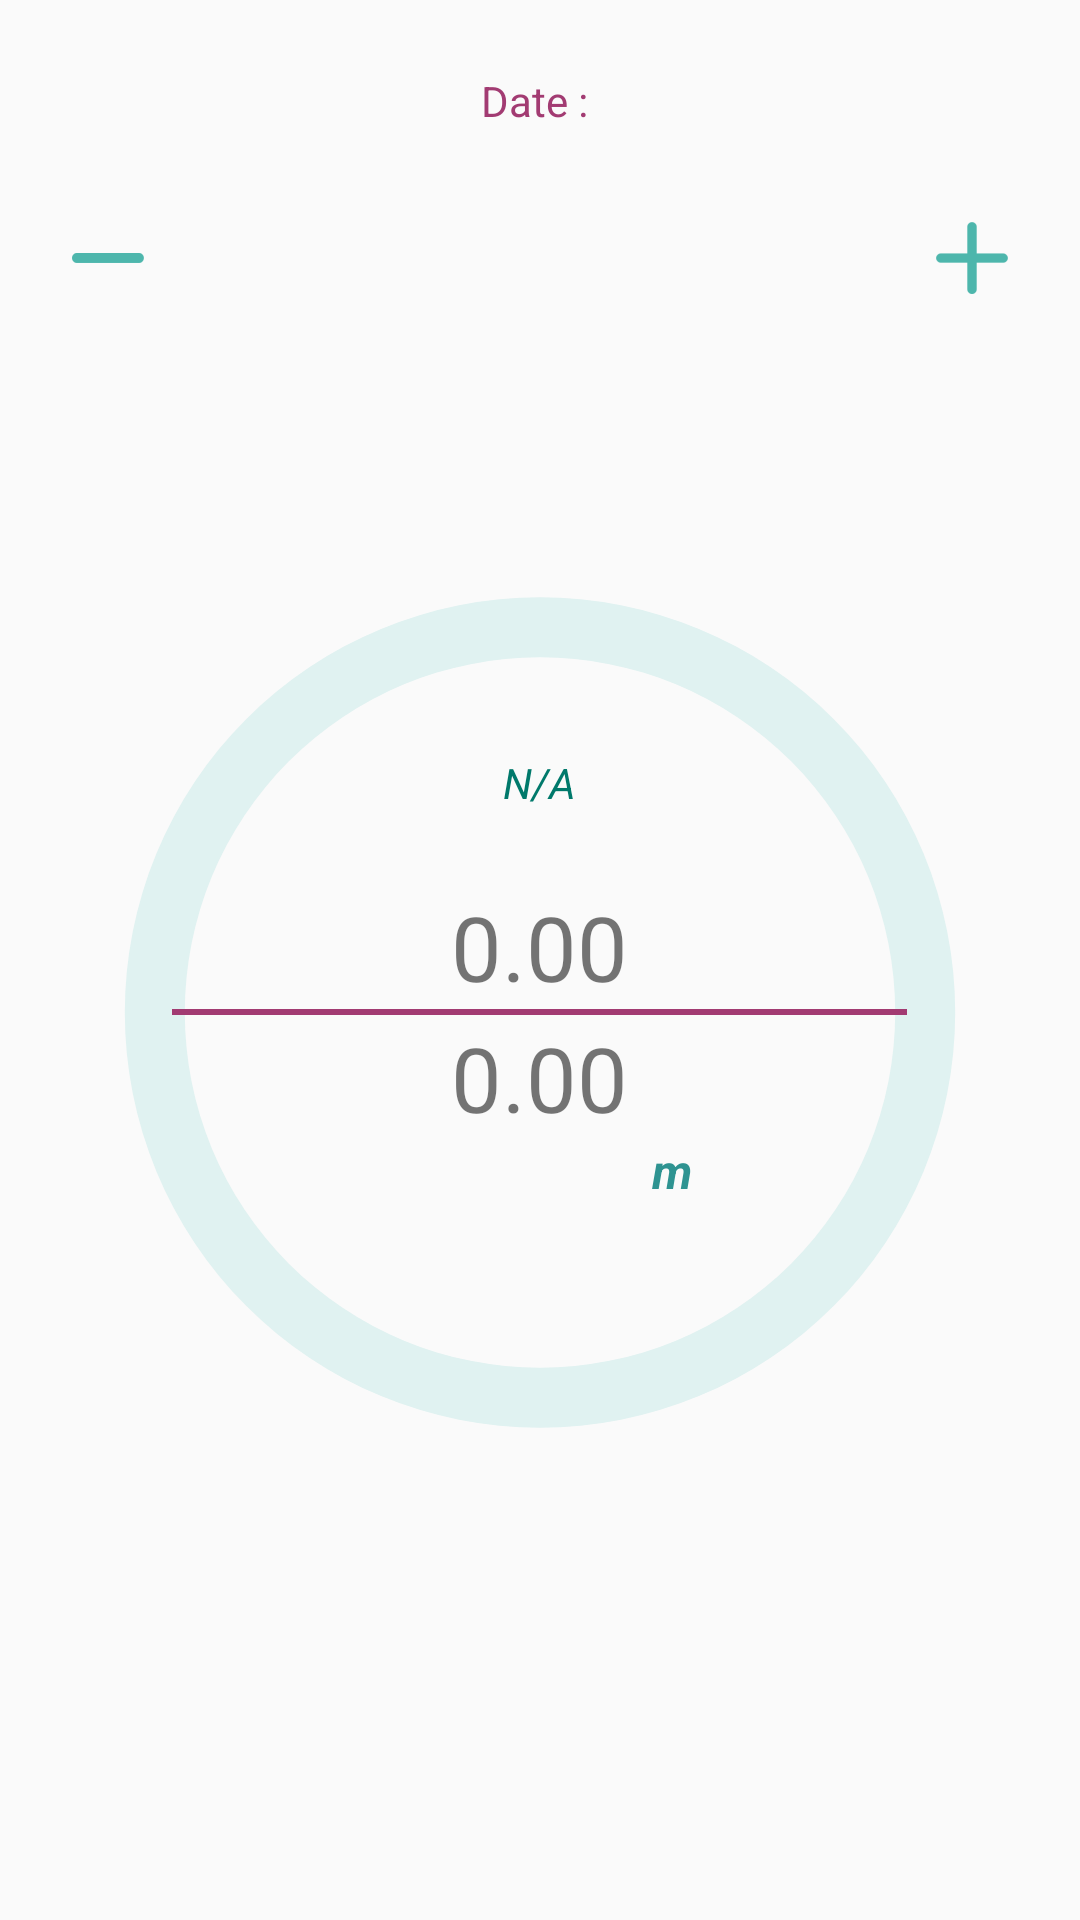

Icon bounding boxes for this 1080px x 1920px phone screenshot, format (x1, y1, x2, y2):
plus: (936, 222, 1008, 294)
